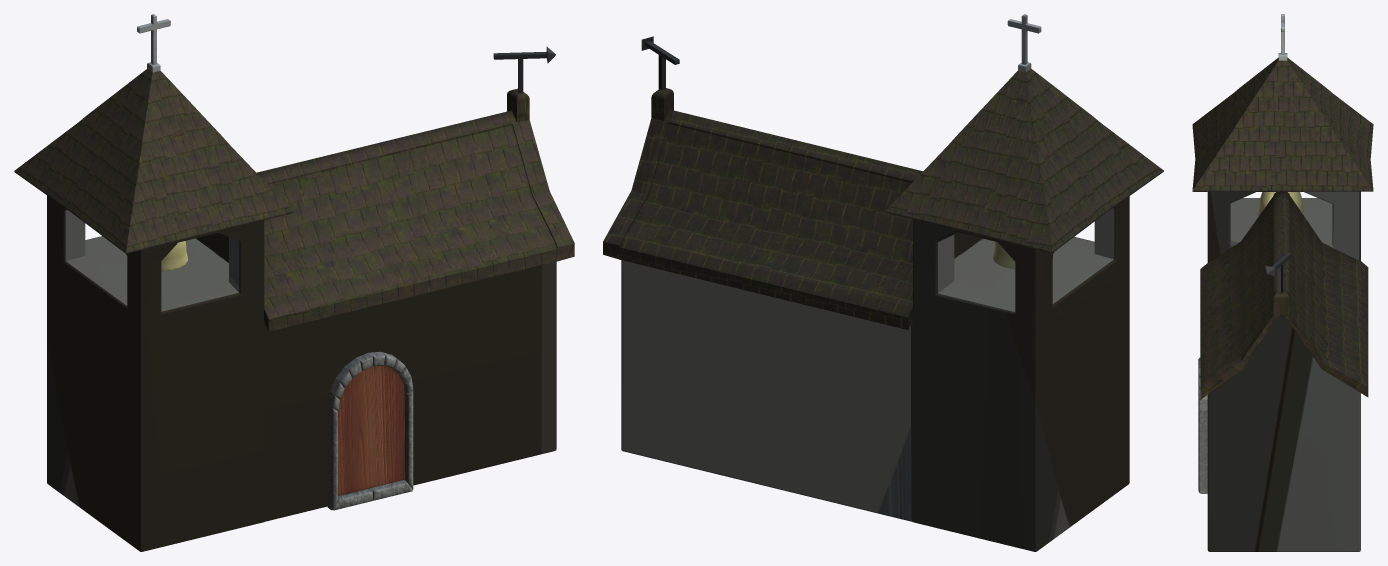
The model's file is IglesiaFBXTex.fbx.
3 renders of one model, left to right at view 1: azimuth 30°, elevation 25°; view 2: azimuth 150°, elevation 25°; view 3: azimuth 270°, elevation 25°, orthographic. The views are drawn at different scales.
Parts seen in each view (by area): view 1: Geo_Campanario, Geo_TejadoIglesia, Geo_Iglesia, Geo_techoAlto, Geo_Puerta, Geo_Marco, pCube1; view 2: Geo_Campanario, Geo_Iglesia, Geo_TejadoIglesia, Geo_techoAlto, Geo_Cruz; view 3: Geo_Iglesia, Geo_TejadoIglesia, Geo_techoAlto, Geo_Campanario, Geo_Marco, pCube1, Geo_Campana.
Boxes of the visible parts, x1,y1,x2,y2 form: Geo_Campanario: [47, 195, 264, 551]; Geo_TejadoIglesia: [257, 88, 574, 331]; Geo_Iglesia: [196, 233, 556, 521]; Geo_techoAlto: [14, 69, 293, 253]; Geo_Puerta: [337, 365, 404, 495]; Geo_Marco: [327, 351, 413, 510]; pCube1: [493, 46, 555, 92]; Geo_Campanario: [912, 196, 1129, 551]; Geo_Iglesia: [621, 232, 981, 521]; Geo_TejadoIglesia: [603, 88, 922, 329]; Geo_techoAlto: [885, 68, 1163, 253]; Geo_Cruz: [1007, 14, 1041, 72]; Geo_Iglesia: [1207, 316, 1360, 551]; Geo_TejadoIglesia: [1200, 191, 1368, 399]; Geo_techoAlto: [1192, 57, 1373, 191]; Geo_Campanario: [1207, 191, 1360, 262]; Geo_Marco: [1198, 357, 1207, 493]; pCube1: [1265, 252, 1291, 293]; Geo_Campana: [1258, 192, 1304, 215].
Size of the model in its own units: 5.86 by 5.76 by 2.38.
